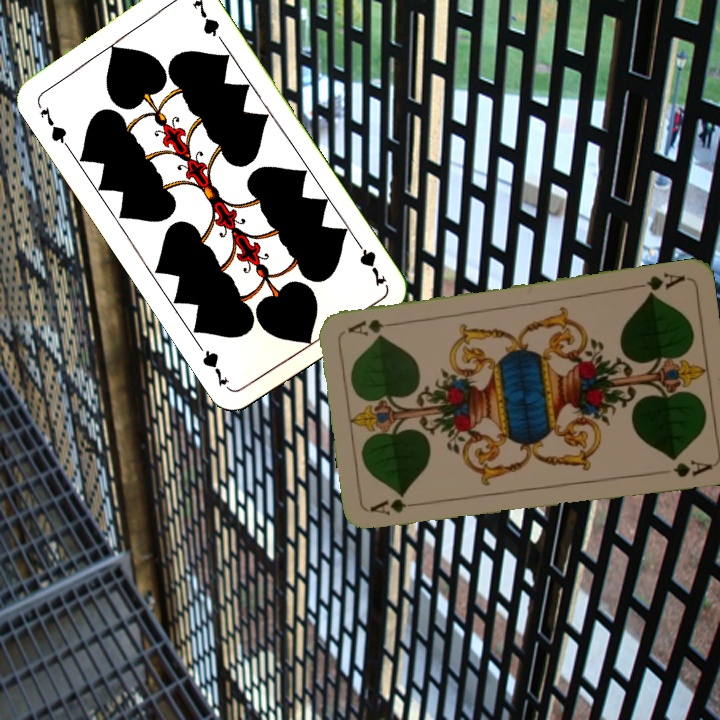G7: (350, 234, 389, 289), (36, 103, 71, 150)
GA: (629, 269, 688, 299), (367, 494, 427, 519)
